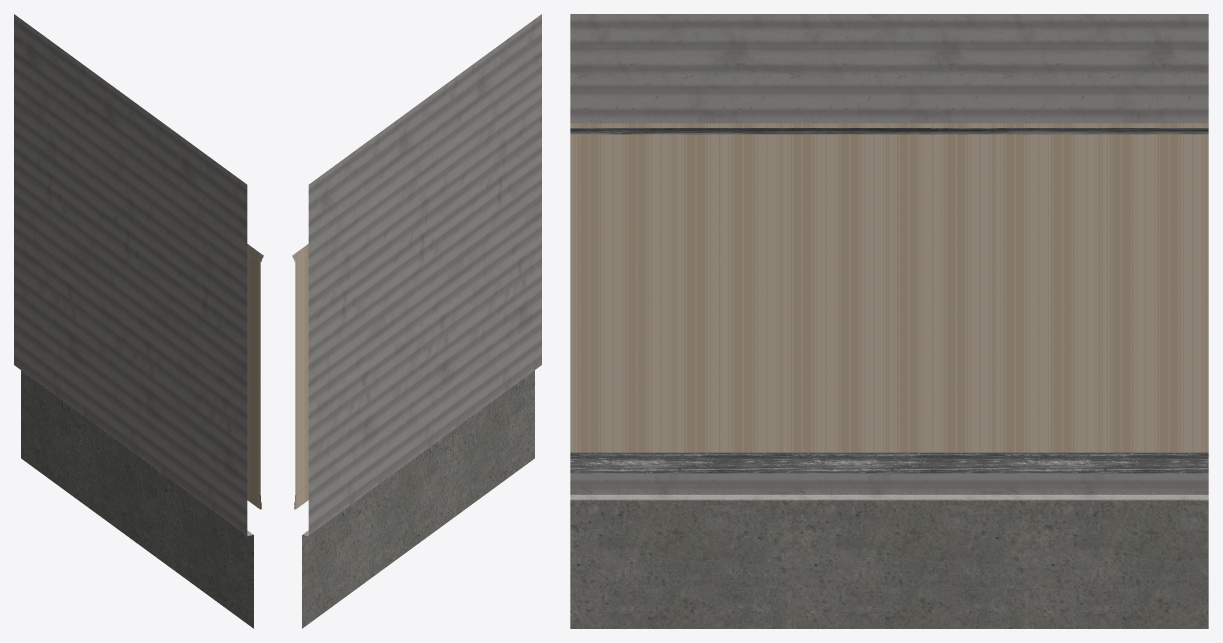
Rendered from SM_Wall_Floor1_600.fbx.
The picture shows the model from 3 angles, left to right: view 1: azimuth 30°, elevation 25°; view 2: azimuth 150°, elevation 25°; view 3: azimuth 270°, elevation 25°; orthographic projection. The views are drawn at different scales.
Parts seen in each view (by area): view 1: SM_Wall_Floor1_600; view 2: SM_Wall_Floor1_600; view 3: SM_Wall_Floor1_600.
Part boxes in pixels (<box>): SM_Wall_Floor1_600: <box>14,14,263,628</box>; SM_Wall_Floor1_600: <box>292,14,541,628</box>; SM_Wall_Floor1_600: <box>570,14,1208,628</box>.
Bounding box in the file's own units: 17.23 × 420 × 443.
4 materials, 4 textured.
